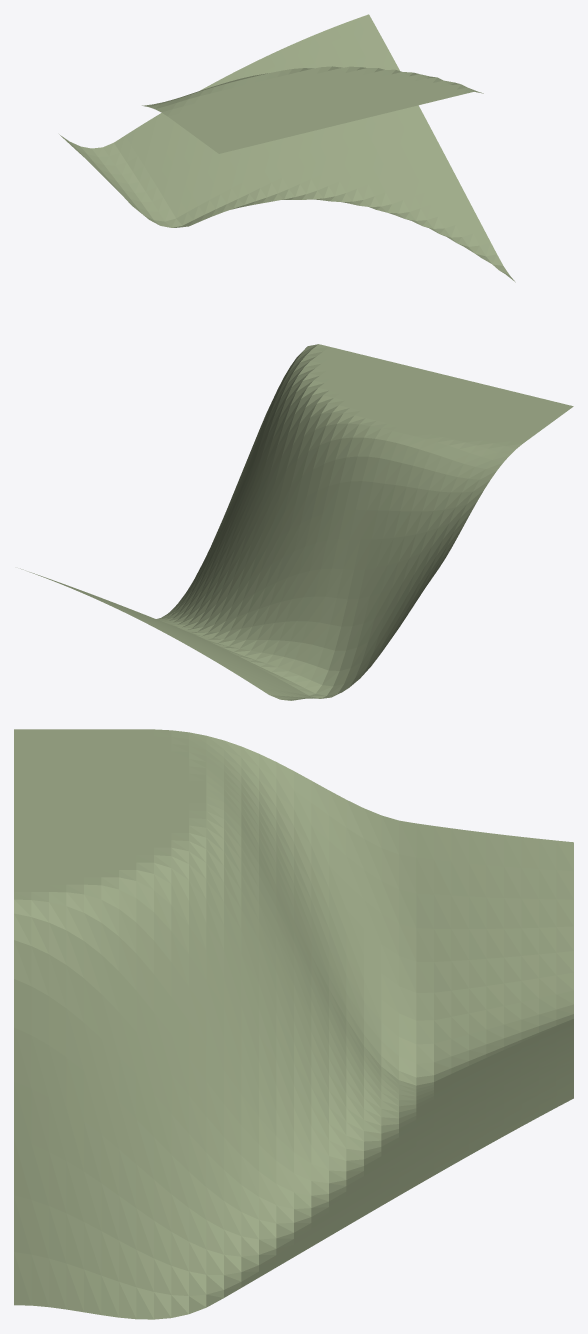
File: alpine-13-11.glb
3 renders of one model, top to bottom at view 1: azimuth 30°, elevation 25°; view 2: azimuth 150°, elevation 25°; view 3: azimuth 270°, elevation 25°, orthographic. The views are drawn at different scales.
Parts seen in each view (by area): view 1: alpine-13-11; view 2: alpine-13-11; view 3: alpine-13-11.
Part boxes in pixels (left/top/right/bottom): alpine-13-11: left=59, top=14, right=515, bottom=282; alpine-13-11: left=20, top=344, right=573, bottom=700; alpine-13-11: left=14, top=729, right=573, bottom=1319.
Size of the model in its own units: 256 by 178 by 256.
